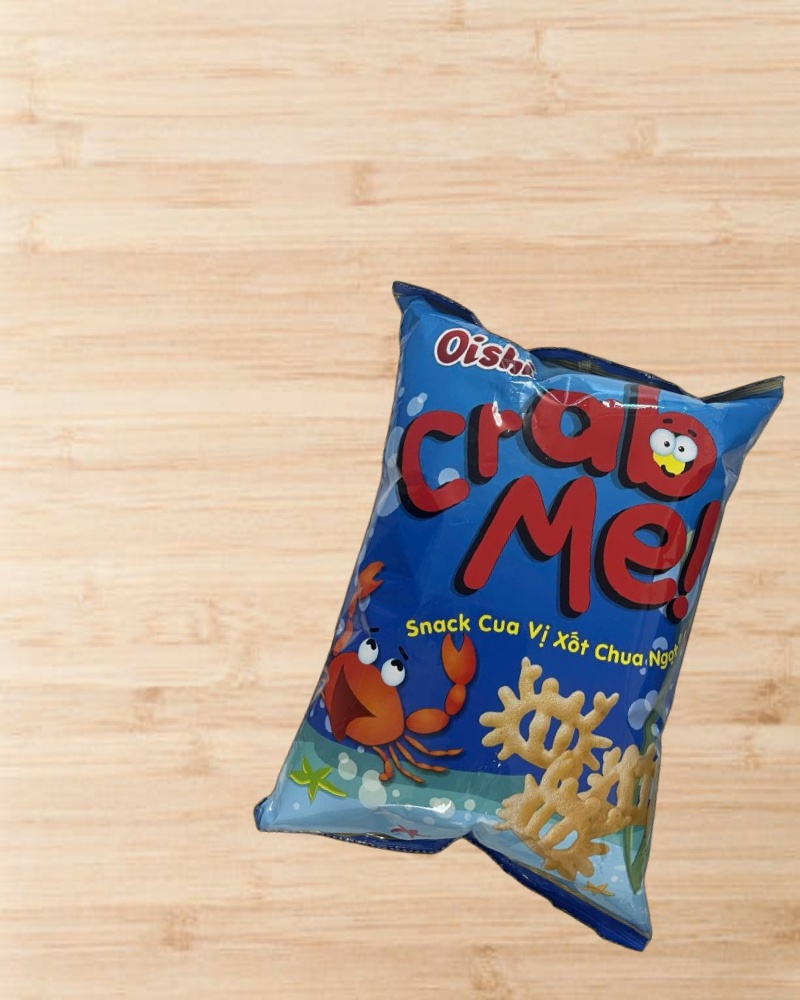Snack cua: (245, 274, 800, 948)
